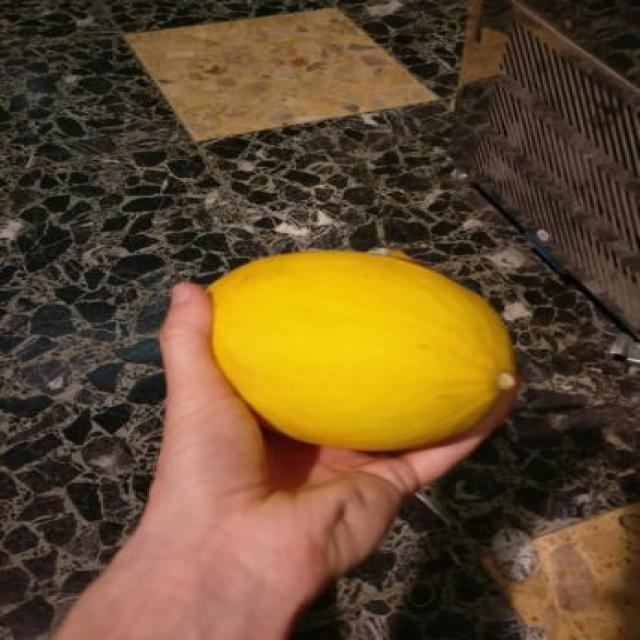Honeydew: (208, 250, 515, 448)
